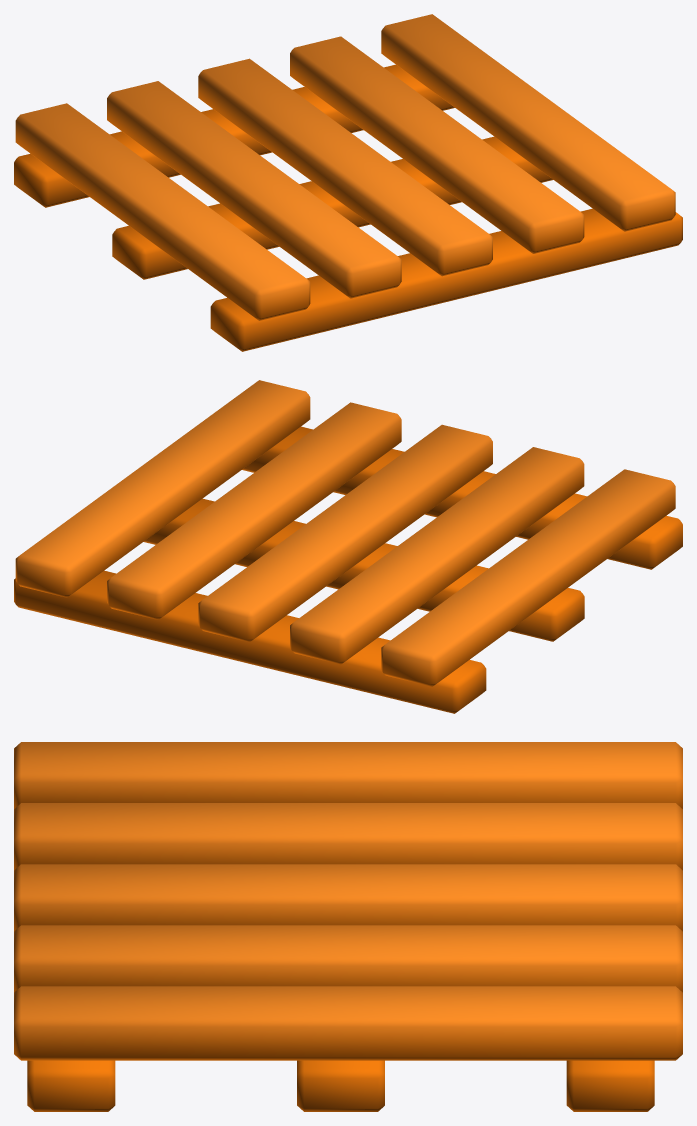
Rendered from Prop_Wooden_Pallet_01.fbx.
3 renders of one model, top to bottom at view 1: azimuth 30°, elevation 25°; view 2: azimuth 150°, elevation 25°; view 3: azimuth 270°, elevation 25°, orthographic. The views are drawn at different scales.
Visible parts, largest first — view 1: Prop_Wooden_Pallet_01; view 2: Prop_Wooden_Pallet_01; view 3: Prop_Wooden_Pallet_01.
Boxes of the visible parts, x1=… form: Prop_Wooden_Pallet_01: x1=14, y1=14, x2=682, y2=351; Prop_Wooden_Pallet_01: x1=14, y1=380, x2=682, y2=713; Prop_Wooden_Pallet_01: x1=14, y1=742, x2=682, y2=1111.
Size of the model in its own units: 90.55 by 12.25 by 85.99.
